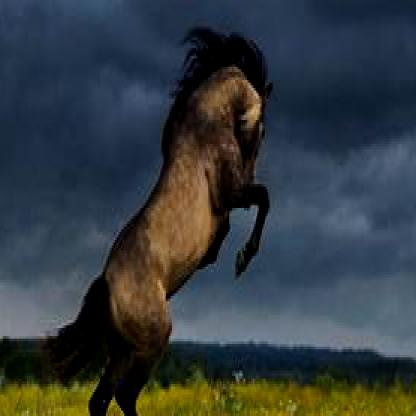horse: (49, 27, 277, 413)
